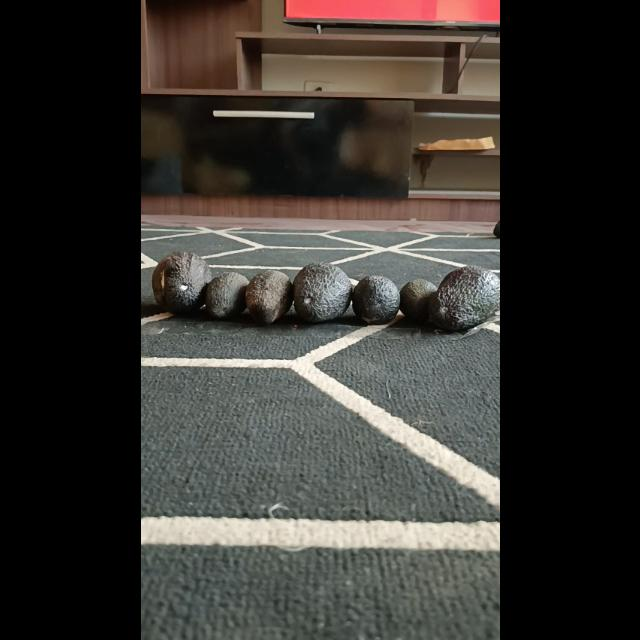Primera: (428, 265, 498, 331), (152, 250, 210, 314), (292, 262, 351, 322)
Segunda: (244, 270, 292, 324), (352, 274, 401, 324), (204, 272, 250, 320)
Tercera: (398, 279, 438, 323)
